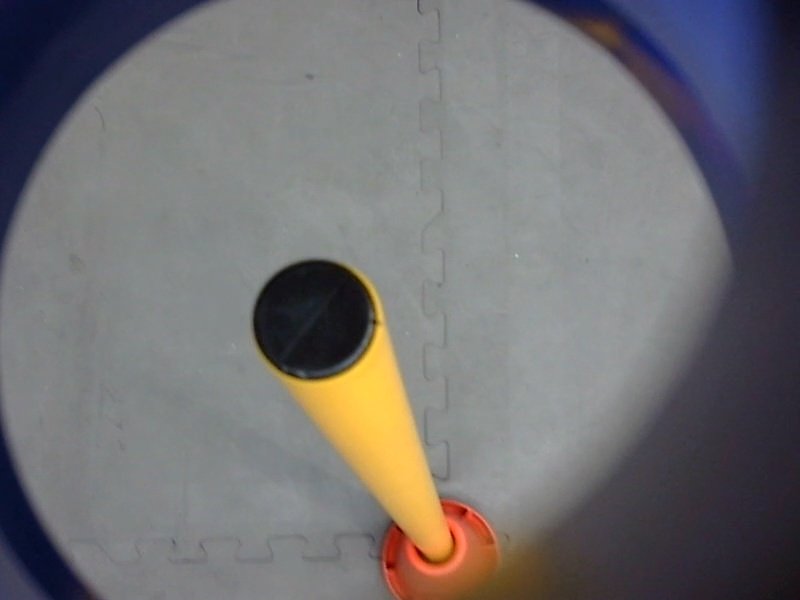tip: (239, 242, 391, 394)
